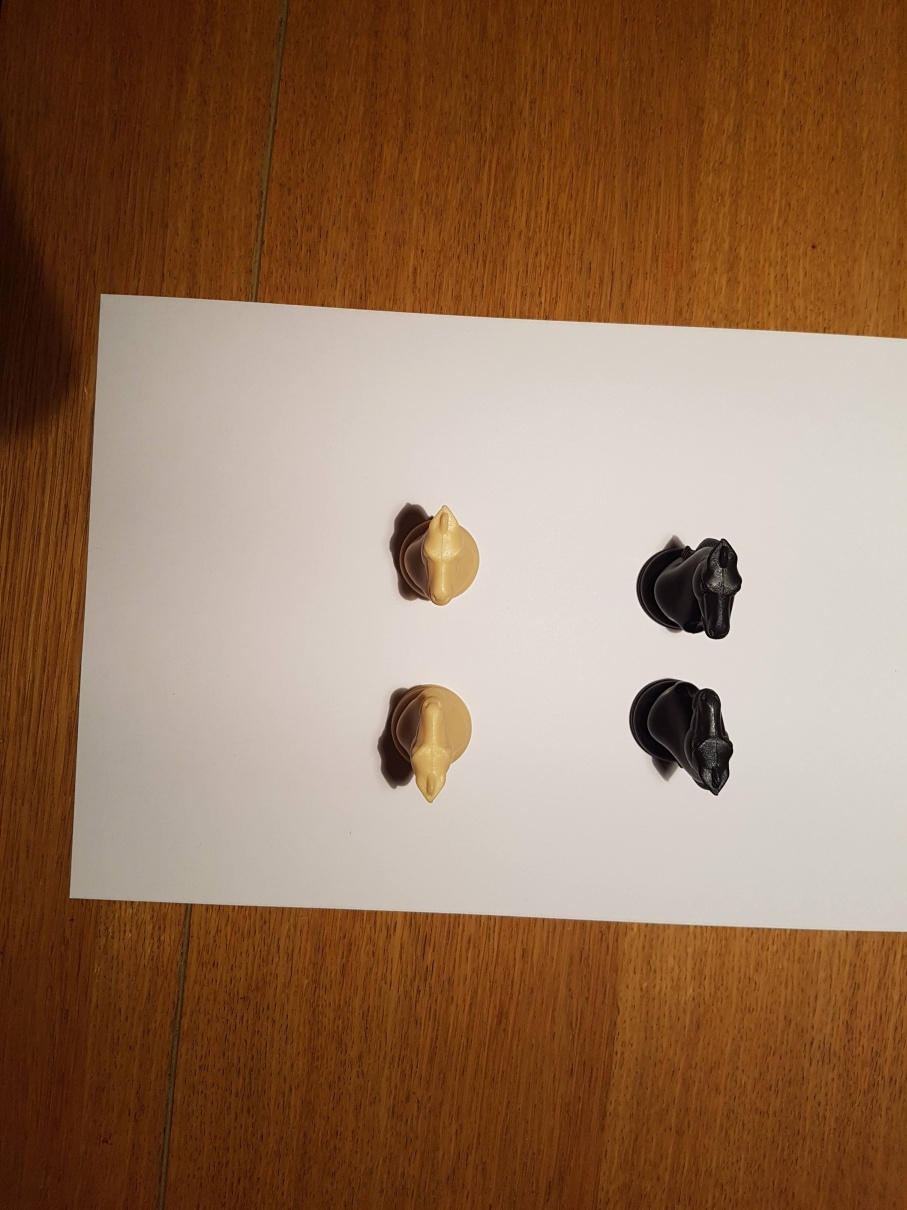chess_knight: (642, 678, 735, 797), (389, 685, 473, 803), (649, 538, 742, 638), (400, 506, 477, 606)
